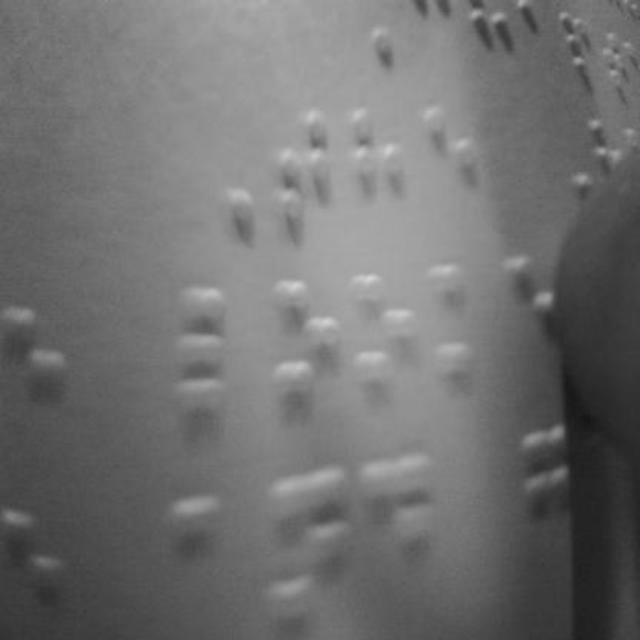braiile: (268, 464, 350, 626), (358, 450, 438, 608), (168, 483, 248, 627), (430, 258, 502, 398), (269, 276, 341, 414), (348, 268, 420, 406), (178, 282, 250, 416), (0, 294, 64, 444), (271, 100, 337, 232), (348, 104, 412, 230), (422, 100, 486, 226)
